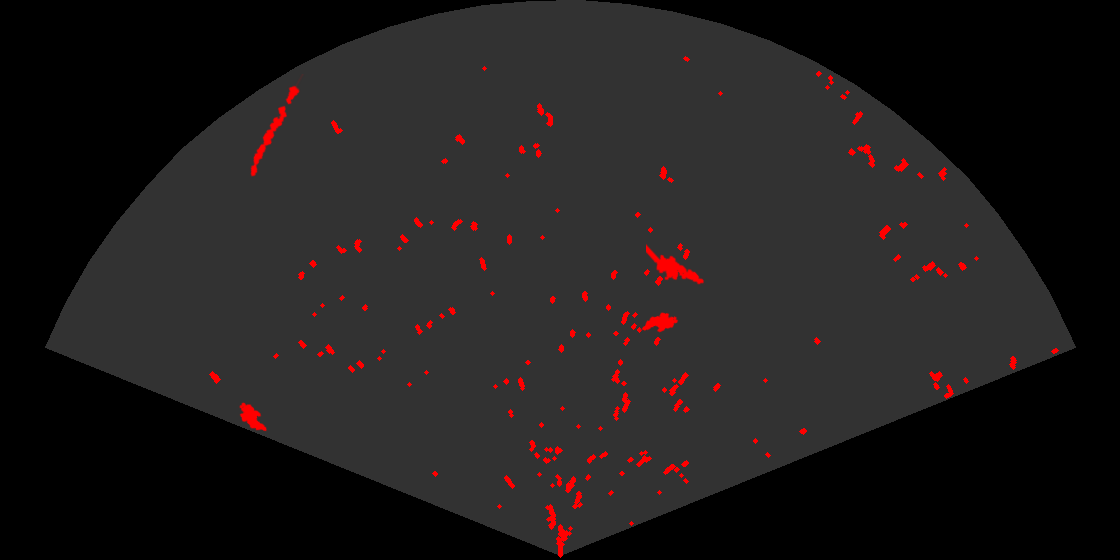AUV: (238, 401, 269, 433), (640, 311, 680, 334)
chain: (249, 74, 305, 178)
frogman: (646, 242, 706, 286)
